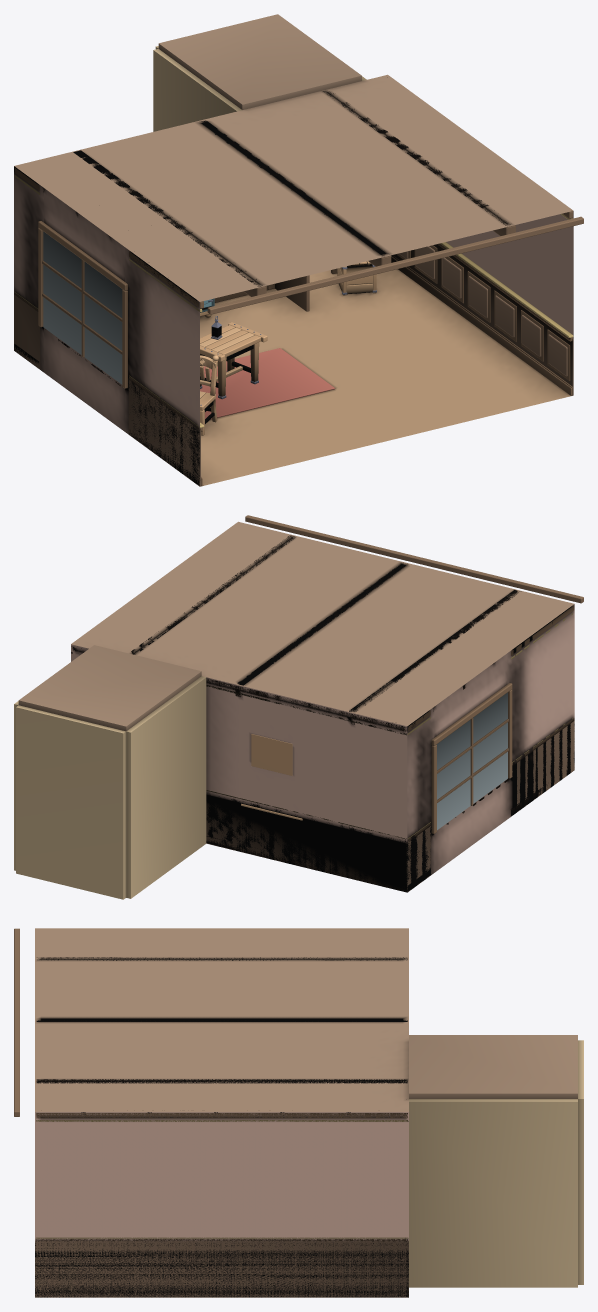
The model's file is room_hero5_ao.glb.
The picture shows the model from 3 angles, top to bottom: view 1: azimuth 30°, elevation 25°; view 2: azimuth 150°, elevation 25°; view 3: azimuth 270°, elevation 25°; orthographic projection. The views are drawn at different scales.
Parts seen in each view (by area): view 1: ceiling, floor, hall_ceil, wall_left_a, wall_right, glass, rug, wain_back.003, hall_l, wall_left_c, wall_left_b, joist.005 (+14 smaller); view 2: ceiling, wall_back_a, hall_end, hall_l, wall_left_a, hall_ceil, wain_back, glass, wall_left_b, wall_left_c, joist.005, wall_left_d (+10 smaller); view 3: ceiling, wall_right, hall_r, wain_back.004, hall_ceil, crown.004, beam.002, hall_end, joist.005, rail.004, rail_lip.004, crown2.004 (+2 smaller).
Part boxes in pixels (x1,y1,x2,y2): ceiling: (14, 74, 573, 301); floor: (200, 269, 570, 486); hall_ceil: (158, 14, 361, 109); wall_left_a: (125, 247, 199, 484); wall_right: (446, 211, 573, 338); glass: (43, 231, 122, 384); rug: (200, 348, 335, 419); wain_back.003: (128, 378, 200, 486); hall_l: (153, 49, 241, 131); wall_left_c: (44, 328, 124, 431); wall_left_b: (14, 166, 43, 372); joist.005: (207, 216, 583, 314); ceiling: (71, 521, 574, 726); wall_back_a: (206, 677, 407, 892); hall_end: (16, 705, 126, 899); hall_l: (126, 676, 206, 898); wall_left_a: (507, 604, 574, 819); hall_ceil: (18, 645, 201, 731); wain_back: (206, 796, 407, 892); glass: (436, 692, 507, 830); wall_left_b: (407, 707, 434, 892); wall_left_c: (434, 779, 507, 872); joist.005: (245, 515, 583, 603); wall_left_d: (434, 653, 507, 737); ceiling: (35, 928, 408, 1111); wall_right: (35, 1112, 408, 1297); hall_r: (409, 1099, 577, 1287); wain_back.004: (35, 1241, 408, 1297); hall_ceil: (409, 1035, 577, 1098); crown.004: (36, 1113, 407, 1118); beam.002: (36, 1079, 407, 1083); hall_end: (578, 1040, 583, 1284); joist.005: (14, 928, 19, 1116); rail.004: (36, 1239, 407, 1241); rail_lip.004: (36, 1237, 407, 1238); crown2.004: (36, 1120, 407, 1121).
Size of the model in its own units: 3.63 by 1.75 by 4.73.
